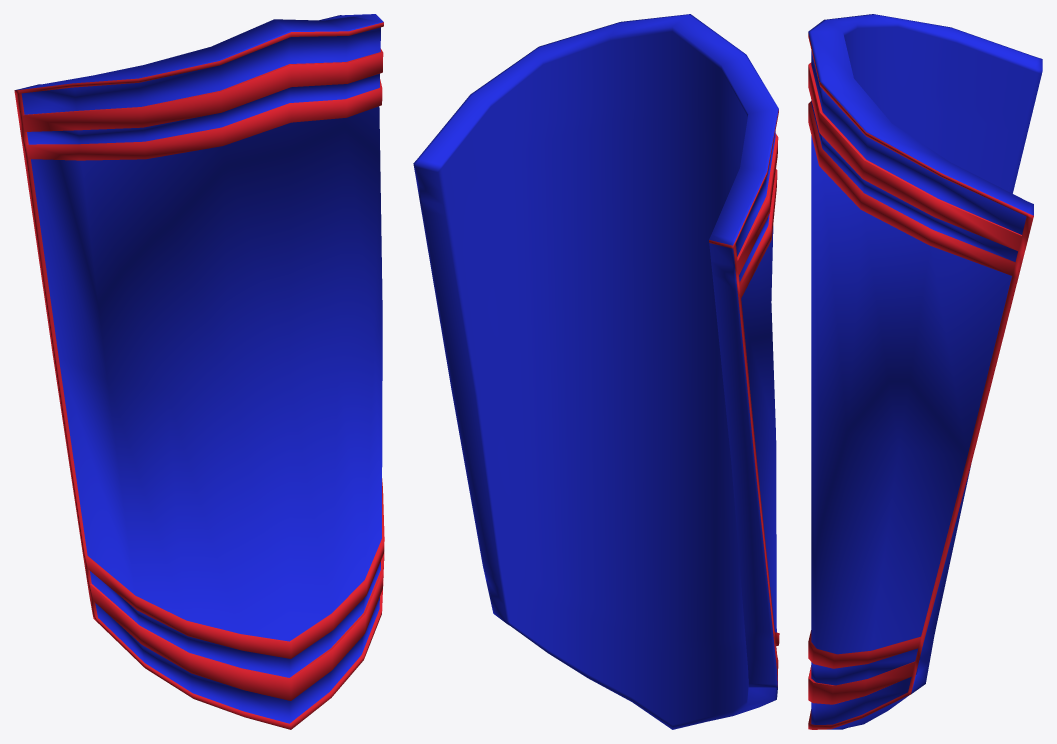
File: avambrazo.fbx
3 renders of one model, left to right at view 1: azimuth 30°, elevation 25°; view 2: azimuth 150°, elevation 25°; view 3: azimuth 270°, elevation 25°, orthographic.
Parts seen in each view (by area): view 1: Cube; view 2: Cube; view 3: Cube.
Part boxes in pixels (x1,y1,x2,y2): Cube: (14,14,384,729); Cube: (413,14,779,729); Cube: (808,14,1042,729).
Size of the model in its own units: 13.8 by 28.63 by 8.72.
